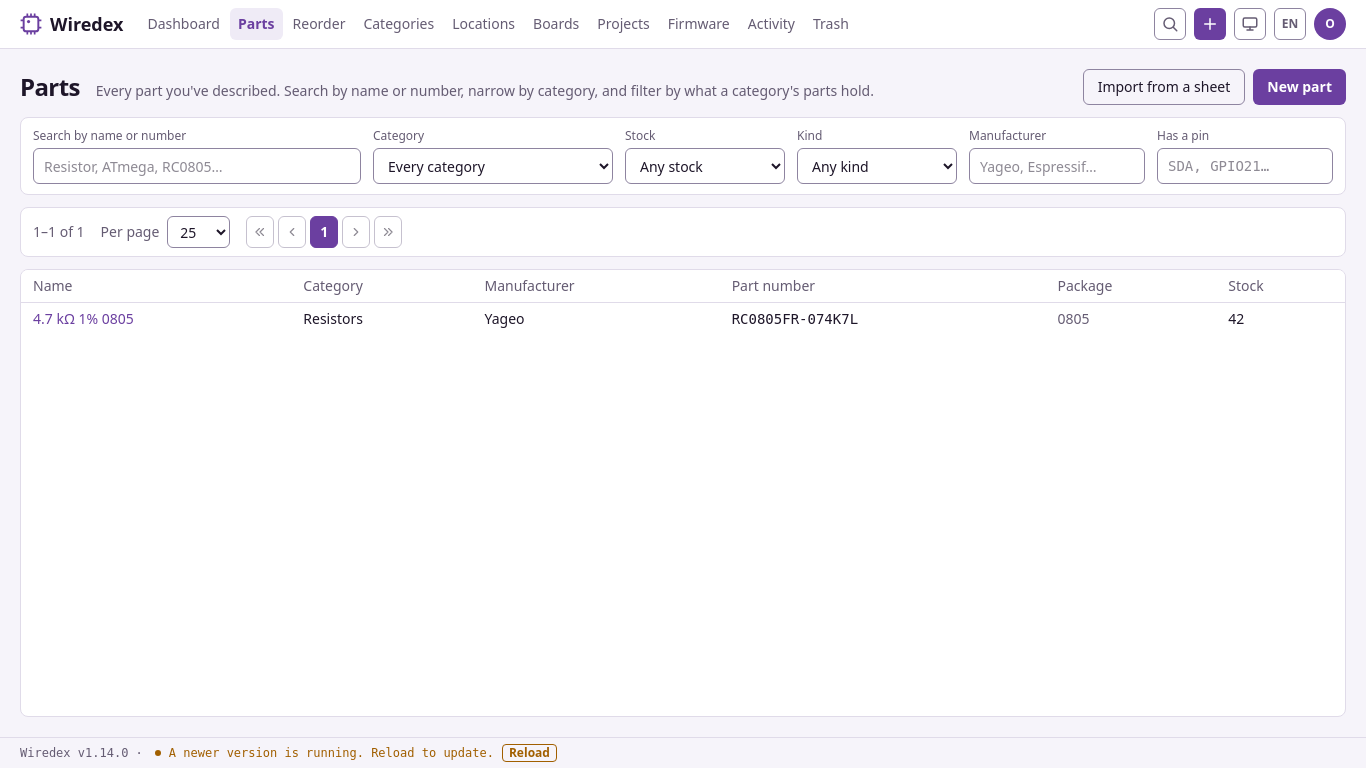
Test case: PartsPage › offers to import from a sheet beside New part
expect the link "New part" is shown: met, box [1253,69,1346,105]
Click the link "Import from a sheet": (1164, 87) [1083,69,1245,105]
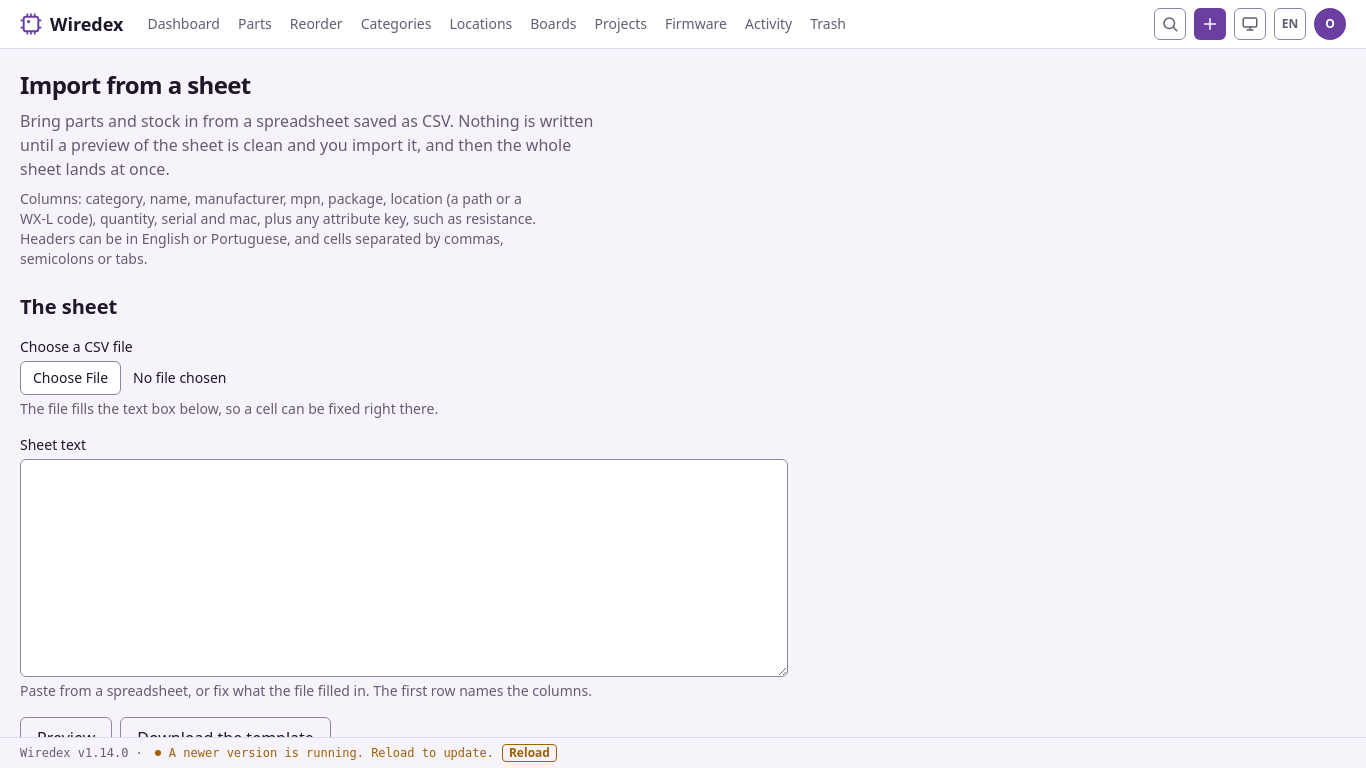
expect the heading "Import from a sheet" is shown: met, box [20,68,251,101]
